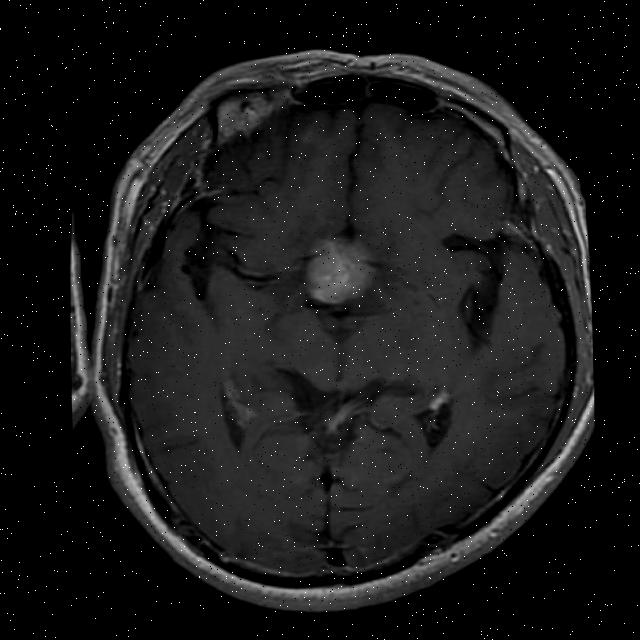Pituitary: (306, 235, 374, 306)
